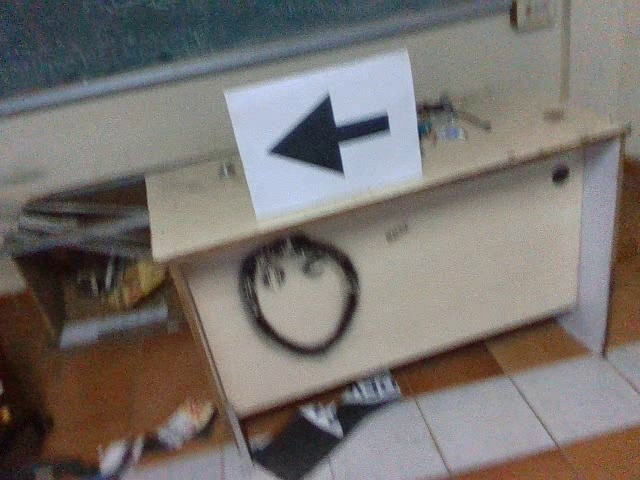Left: (255, 87, 399, 183)
